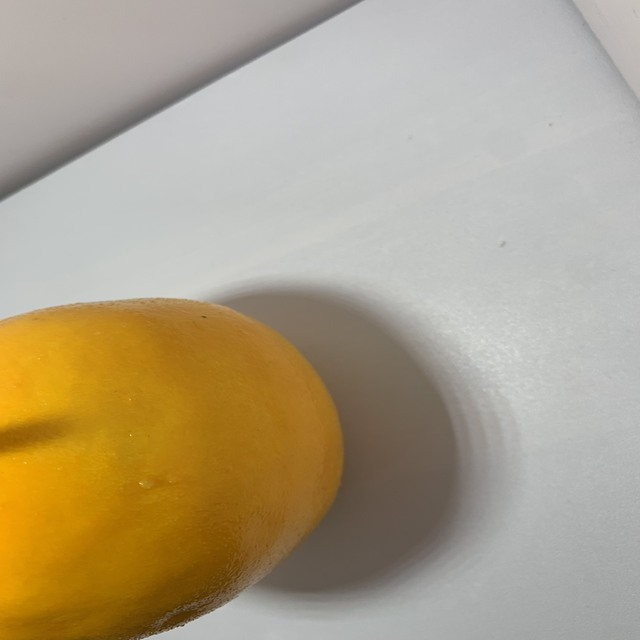Cam vang: (0, 289, 348, 640)
